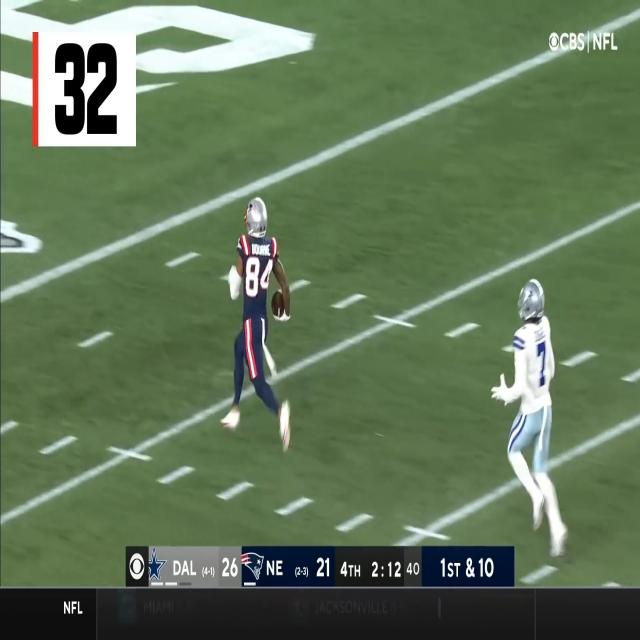football: (272, 290, 285, 320)
players: (491, 279, 569, 556), (221, 196, 289, 454)
